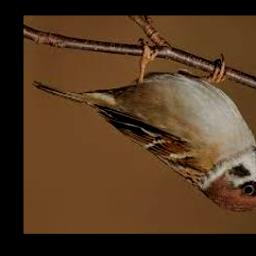Sparrow: (32, 39, 256, 212)
